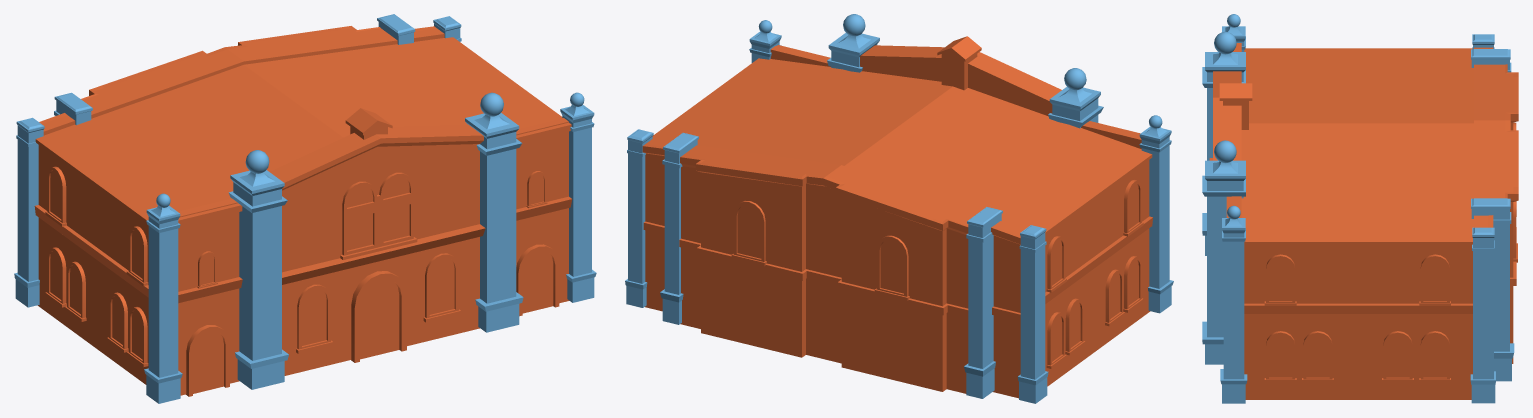
Rendered from mesh_OswiecimGreatSynagogueSegmented.fbx.
3 renders of one model, left to right at view 1: azimuth 30°, elevation 25°; view 2: azimuth 150°, elevation 25°; view 3: azimuth 270°, elevation 25°, orthographic. The views are drawn at different scales.
Visible parts, largest first — view 1: SynagogueMesh_Center, SynagogueMesh_R, PillarsFA, SynagogueMesh_L, PillarsFB, PillarsBB, PillarsBA; view 2: SynagogueMesh_Center, SynagogueMesh_R, SynagogueMesh_L, PillarsBA, PillarsBB, PillarsFB, PillarsFA; view 3: SynagogueMesh_L, SynagogueMesh_Center, SynagogueMesh_R, PillarsFA, PillarsFB, PillarsBB, PillarsBA.
Part boxes in pixels (x1,y1,x2,y2): SynagogueMesh_Center: [102, 27, 485, 375]; SynagogueMesh_R: [34, 85, 242, 396]; PillarsFA: [228, 92, 523, 389]; SynagogueMesh_L: [339, 26, 572, 316]; PillarsFB: [144, 92, 596, 403]; PillarsBB: [14, 16, 461, 307]; PillarsBA: [54, 14, 415, 125]; SynagogueMesh_Center: [707, 36, 1066, 389]; SynagogueMesh_R: [931, 121, 1152, 398]; SynagogueMesh_L: [642, 45, 843, 335]; PillarsBA: [660, 132, 1002, 398]; PillarsBB: [625, 129, 1048, 403]; PillarsFB: [749, 20, 1173, 313]; PillarsFA: [827, 14, 1103, 128]; SynagogueMesh_L: [1226, 187, 1518, 399]; SynagogueMesh_Center: [1209, 71, 1518, 273]; SynagogueMesh_R: [1233, 43, 1518, 80]; PillarsFA: [1202, 31, 1245, 364]; PillarsFB: [1220, 14, 1247, 403]; PillarsBB: [1470, 34, 1495, 403]; PillarsBA: [1471, 49, 1514, 381].
Bounding box in the file's own units: 1567 × 798 × 1032.
